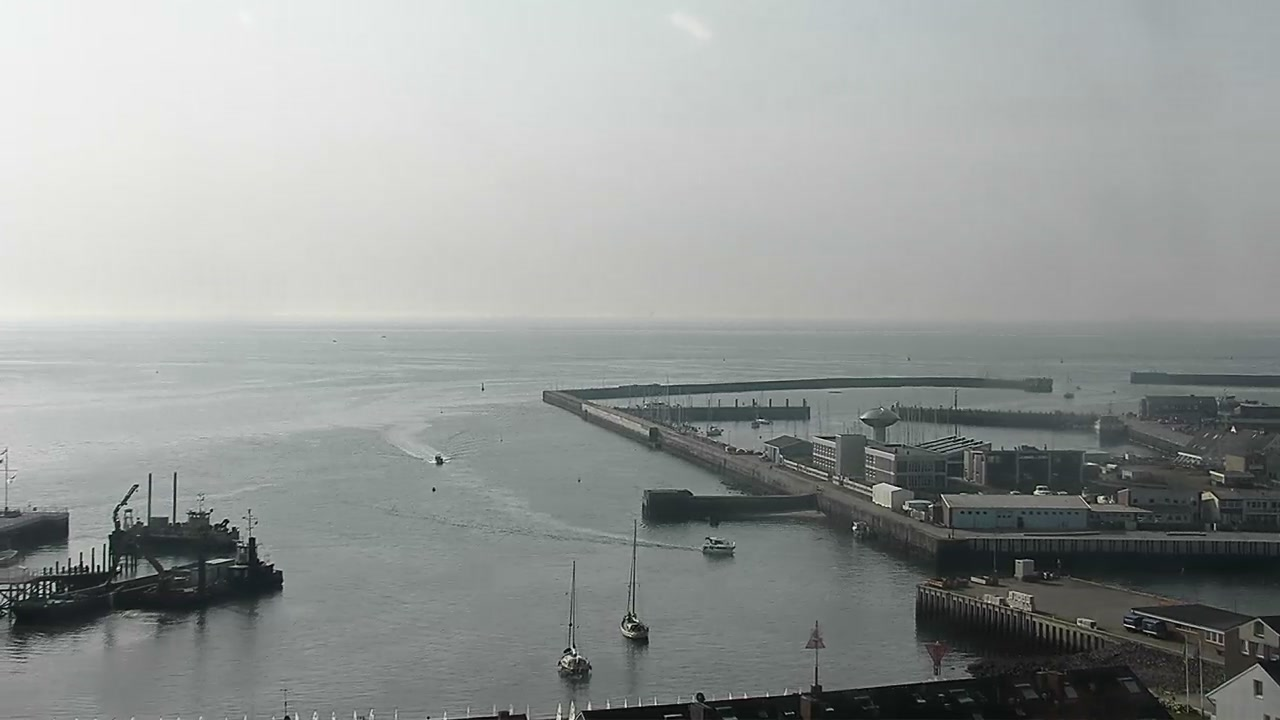sea: (11, 482, 208, 623), (155, 507, 284, 609), (108, 471, 241, 549), (554, 559, 593, 678), (619, 517, 649, 640), (700, 536, 737, 554), (850, 518, 873, 537), (642, 395, 681, 406), (1062, 370, 1076, 399), (1033, 483, 1053, 497), (1096, 492, 1116, 504), (705, 424, 724, 436), (753, 415, 771, 424), (433, 453, 445, 466)
